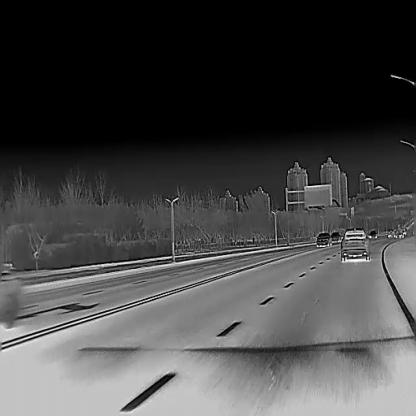car: (340, 227, 371, 260), (315, 232, 331, 246), (330, 232, 340, 242), (368, 229, 377, 239), (395, 228, 403, 237), (387, 228, 394, 236), (402, 227, 407, 235)
